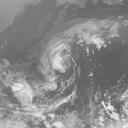cyclone: (39, 35, 77, 81)
